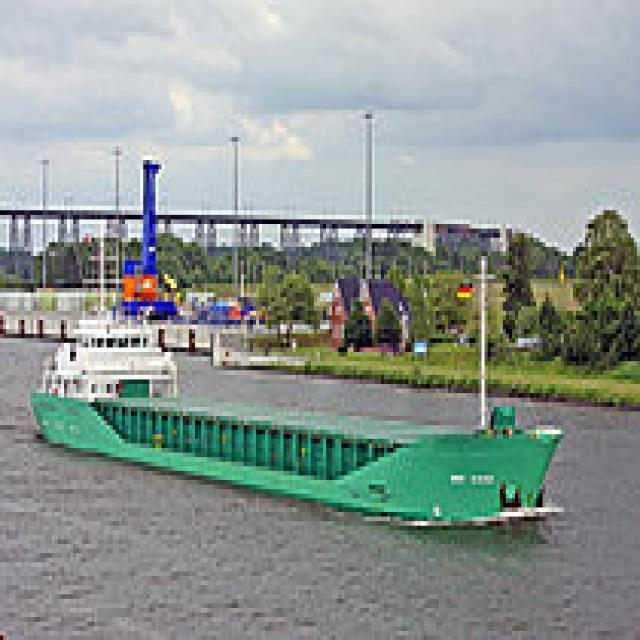Ship: (31, 248, 568, 550)
